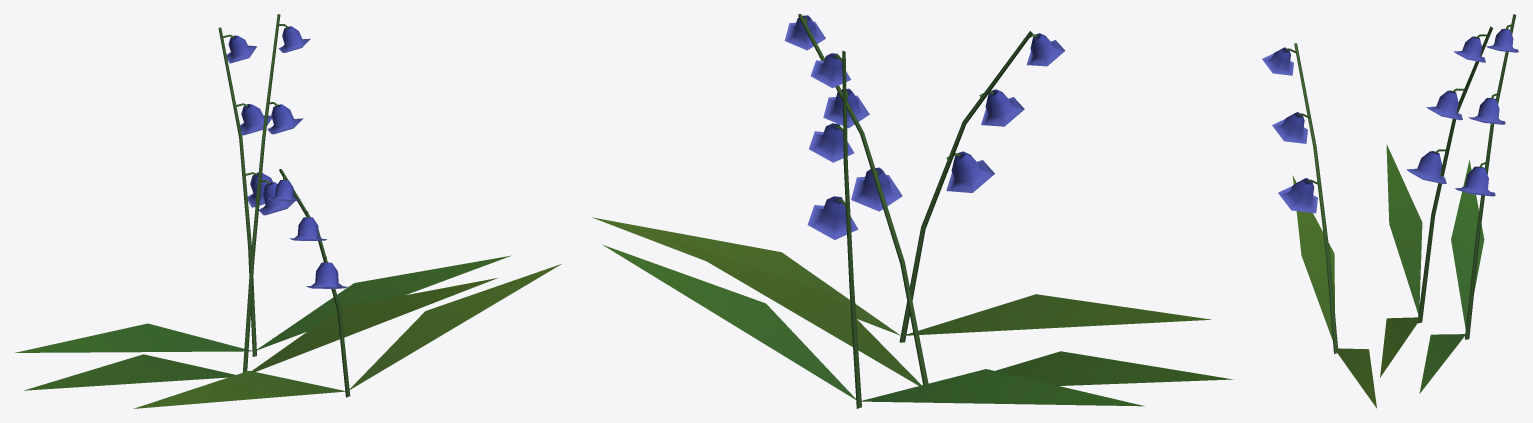
Rendered from flower-bluebell-b.lod1.glb.
3 renders of one model, left to right at view 1: azimuth 30°, elevation 25°; view 2: azimuth 150°, elevation 25°; view 3: azimuth 270°, elevation 25°, orthographic. The views are drawn at different scales.
Visible parts, largest first — view 1: flower-bluebell-b.lod1; view 2: flower-bluebell-b.lod1; view 3: flower-bluebell-b.lod1.
Part boxes in pixels (x1=…): flower-bluebell-b.lod1: x1=15, y1=14, x2=561, y2=408; flower-bluebell-b.lod1: x1=592, y1=14, x2=1233, y2=408; flower-bluebell-b.lod1: x1=1262, y1=14, x2=1518, y2=408.
Bounding box in the file's own units: 0.5871 × 0.3409 × 0.2402.
